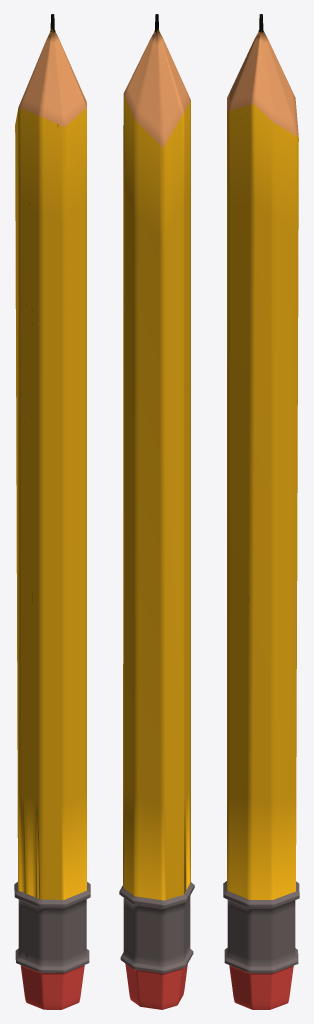
File: pencil.fbx
3 renders of one model, left to right at view 1: azimuth 90°, elevation 25°; view 2: azimuth 210°, elevation 25°; view 3: azimuth 270°, elevation 25°, orthographic.
Parts seen in each view (by area): view 1: Cube; view 2: Cube; view 3: Cube.
Part boxes in pixels (box(x1,y1,x2,y2)): Cube: box(14, 14, 90, 1009); Cube: box(119, 14, 194, 1009); Cube: box(223, 14, 299, 1009).
Size of the model in its own units: 45.88 by 696 by 48.69.
1 material, 1 textured.
